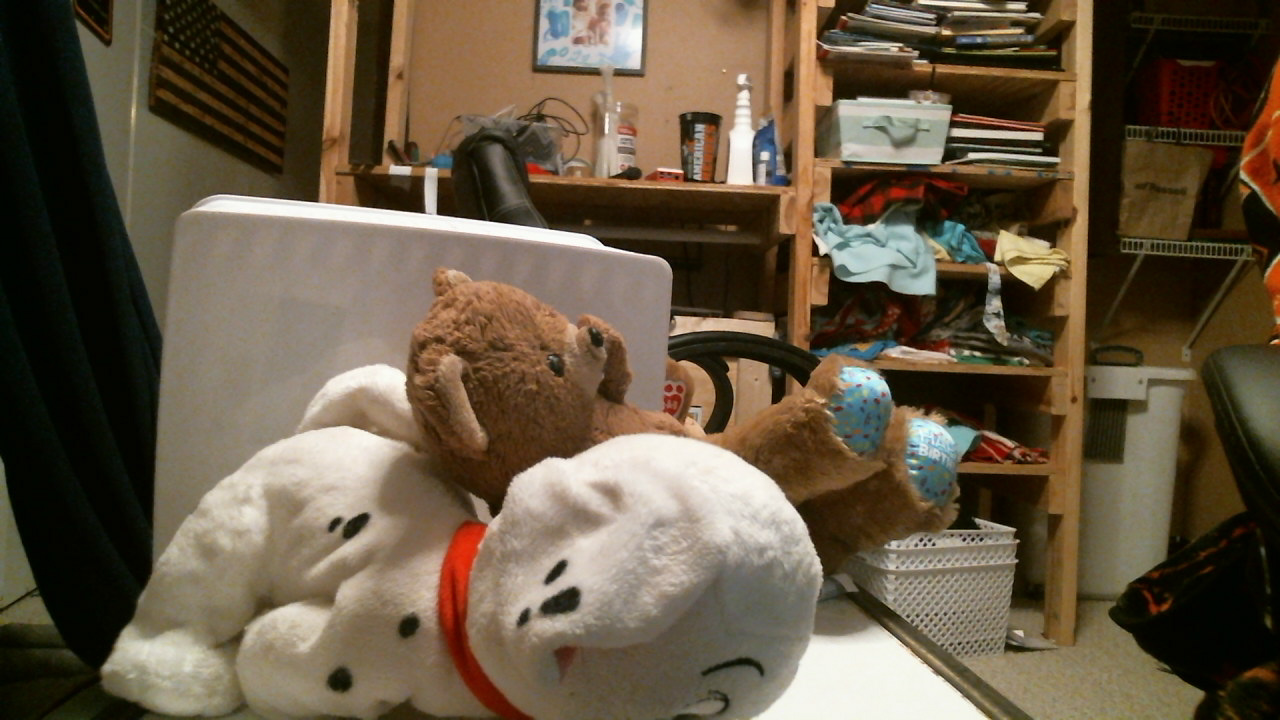Little_Mister_Bear: (523, 330, 614, 394)
